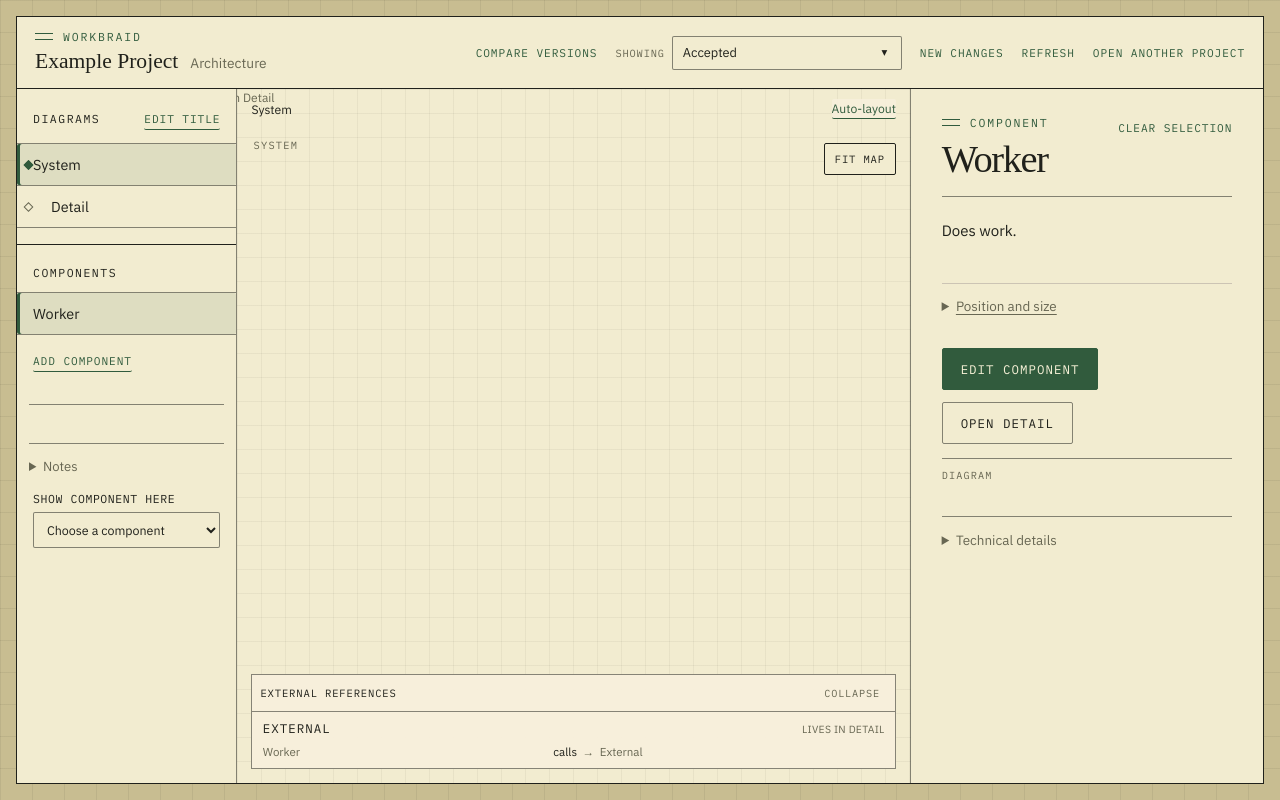
Test: slug workspace and reusable references › leaves durable proposals intact when switching projects
Click the button "Open another project" at (1169, 52), box [1093,42,1245,64]
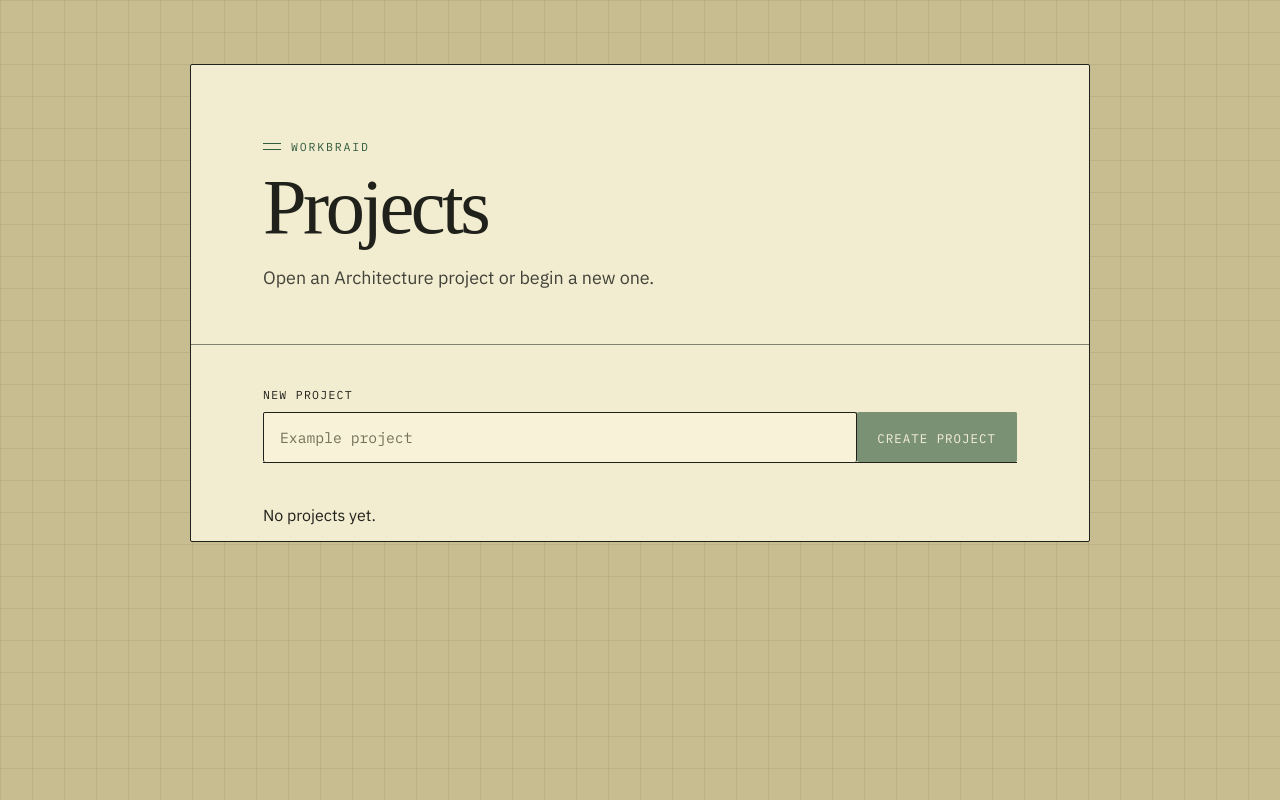
Expected: the heading "Projects" is shown, [263,162,487,250]
